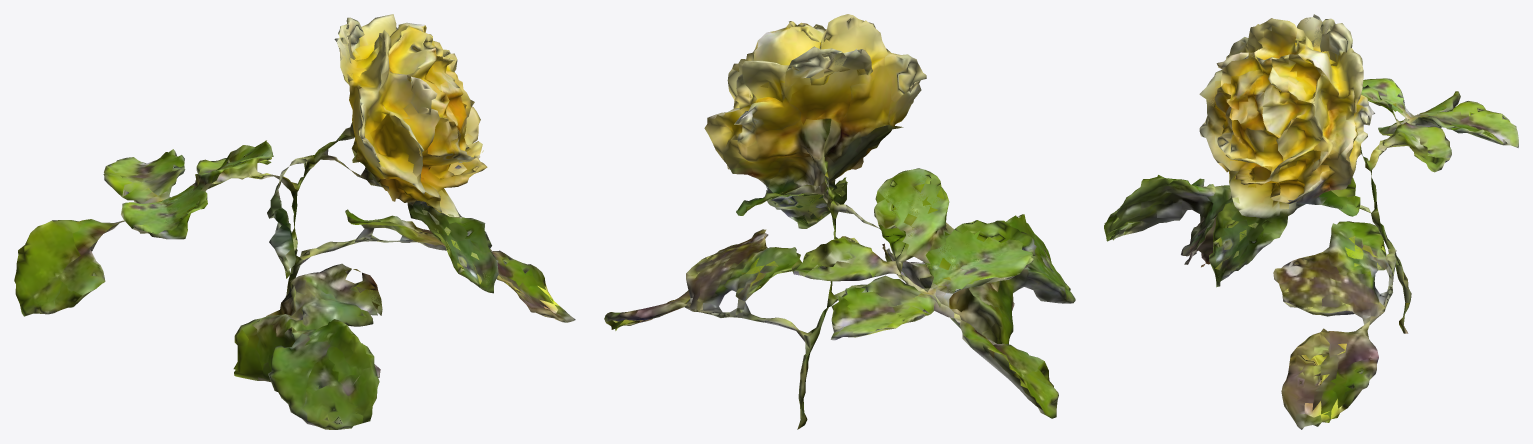
3 views of the same model, side by side, from view 1: azimuth 30°, elevation 25°; view 2: azimuth 150°, elevation 25°; view 3: azimuth 270°, elevation 25° (orthographic). The views are drawn at different scales.
Parts seen in each view (by area): view 1: c8cca8bb; view 2: c8cca8bb; view 3: c8cca8bb.
Part boxes in pixels (box(x1,y1,x2,y2)): c8cca8bb: box(14, 14, 575, 429); c8cca8bb: box(604, 14, 1075, 429); c8cca8bb: box(1104, 14, 1518, 429).
Size of the model in its own units: 0.0871 by 0.0598 by 0.069.
Materials: 1 (1 with a texture image).
